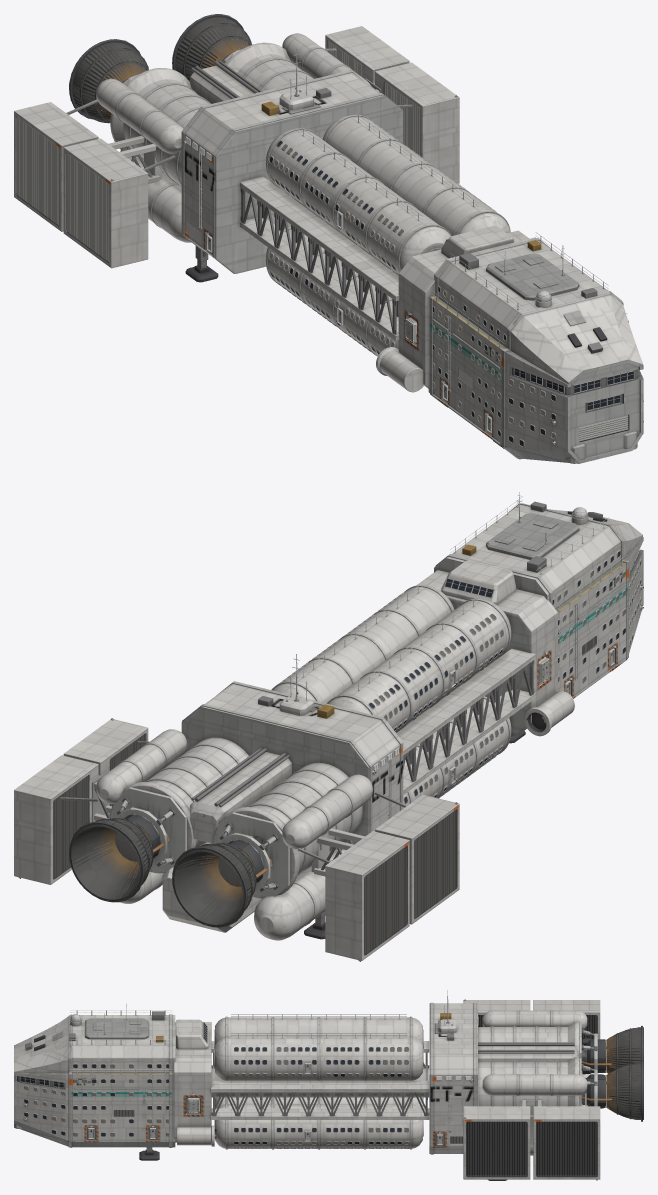
The model's file is freighter-troops.glb.
3 views of the same model, one above another, from view 1: azimuth 30°, elevation 25°; view 2: azimuth 150°, elevation 25°; view 3: azimuth 270°, elevation 25° (orthographic). The views are drawn at different scales.
Parts seen in each view (by area): view 1: hull, parts_bell-L, parts_portlite, parts_rail, parts_pane; view 2: hull, parts_bell-L, parts_portlite, parts_rail; view 3: hull, parts_bell-L, parts_portlite, parts_rail, parts_door, parts_pane.
Part boxes in pixels (x1,y1,x2,y2): hull: (14, 26, 643, 463); parts_bell-L: (69, 14, 251, 140); parts_portlite: (269, 119, 556, 446); parts_rail: (298, 111, 626, 347); parts_pane: (444, 238, 639, 410); hull: (14, 501, 643, 960); parts_bell-L: (69, 787, 289, 927); parts_portlite: (278, 550, 641, 803); parts_rail: (298, 496, 626, 691); hull: (14, 1000, 600, 1180); parts_bell-L: (579, 1023, 643, 1121); parts_portlite: (24, 1047, 409, 1148); parts_rail: (70, 1010, 406, 1074); parts_door: (88, 1063, 443, 1145); parts_pane: (16, 1022, 207, 1088).
Bounding box in the file's own units: 57.74 × 37.66 × 129.
16 materials, 13 textured.
